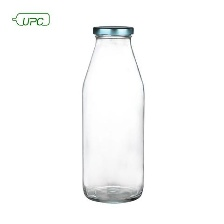bottle: (75, 18, 150, 209)
